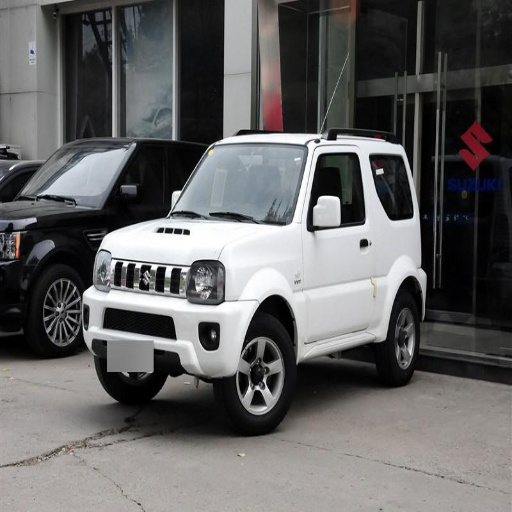back_glass: (3, 149, 108, 186)
front_bumper: (83, 254, 255, 374)
front_glass: (173, 147, 306, 224)
front_left_door: (303, 149, 369, 342)
trunk: (385, 223, 424, 297)
